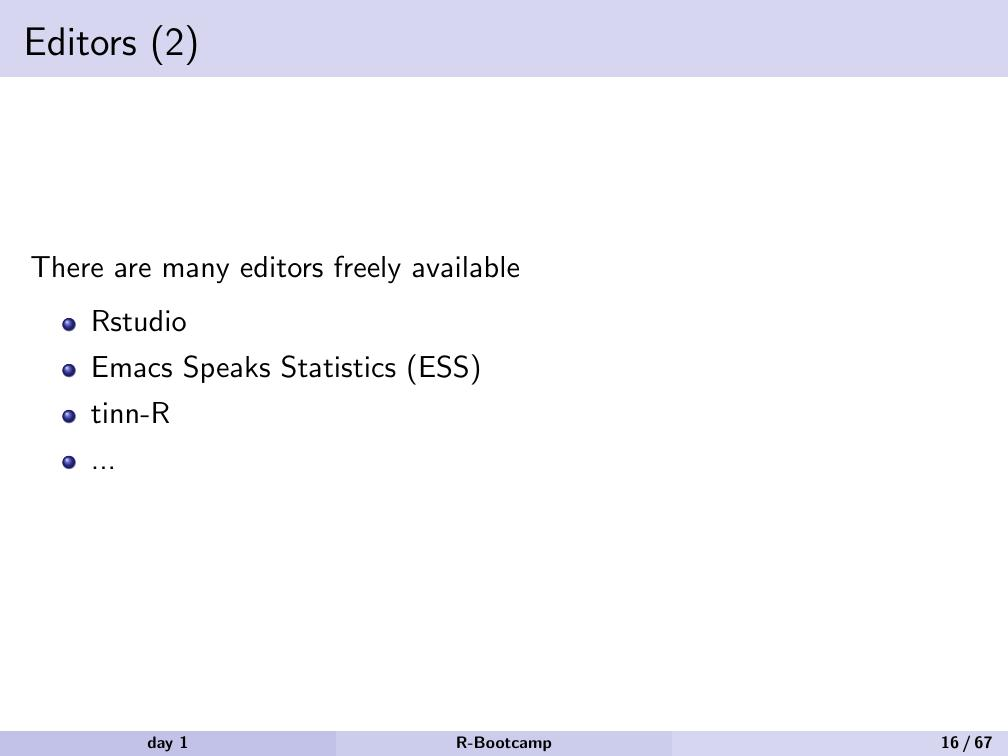Title: (13, 14, 210, 72)
